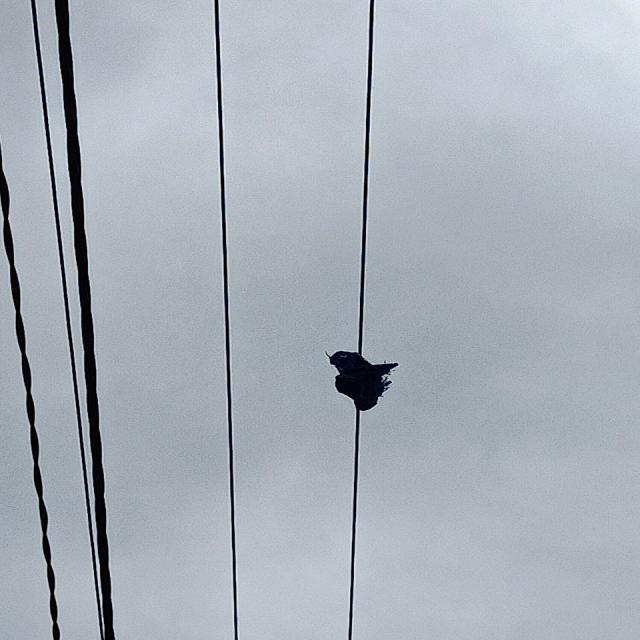植被遮挡: (323, 340, 405, 419)
